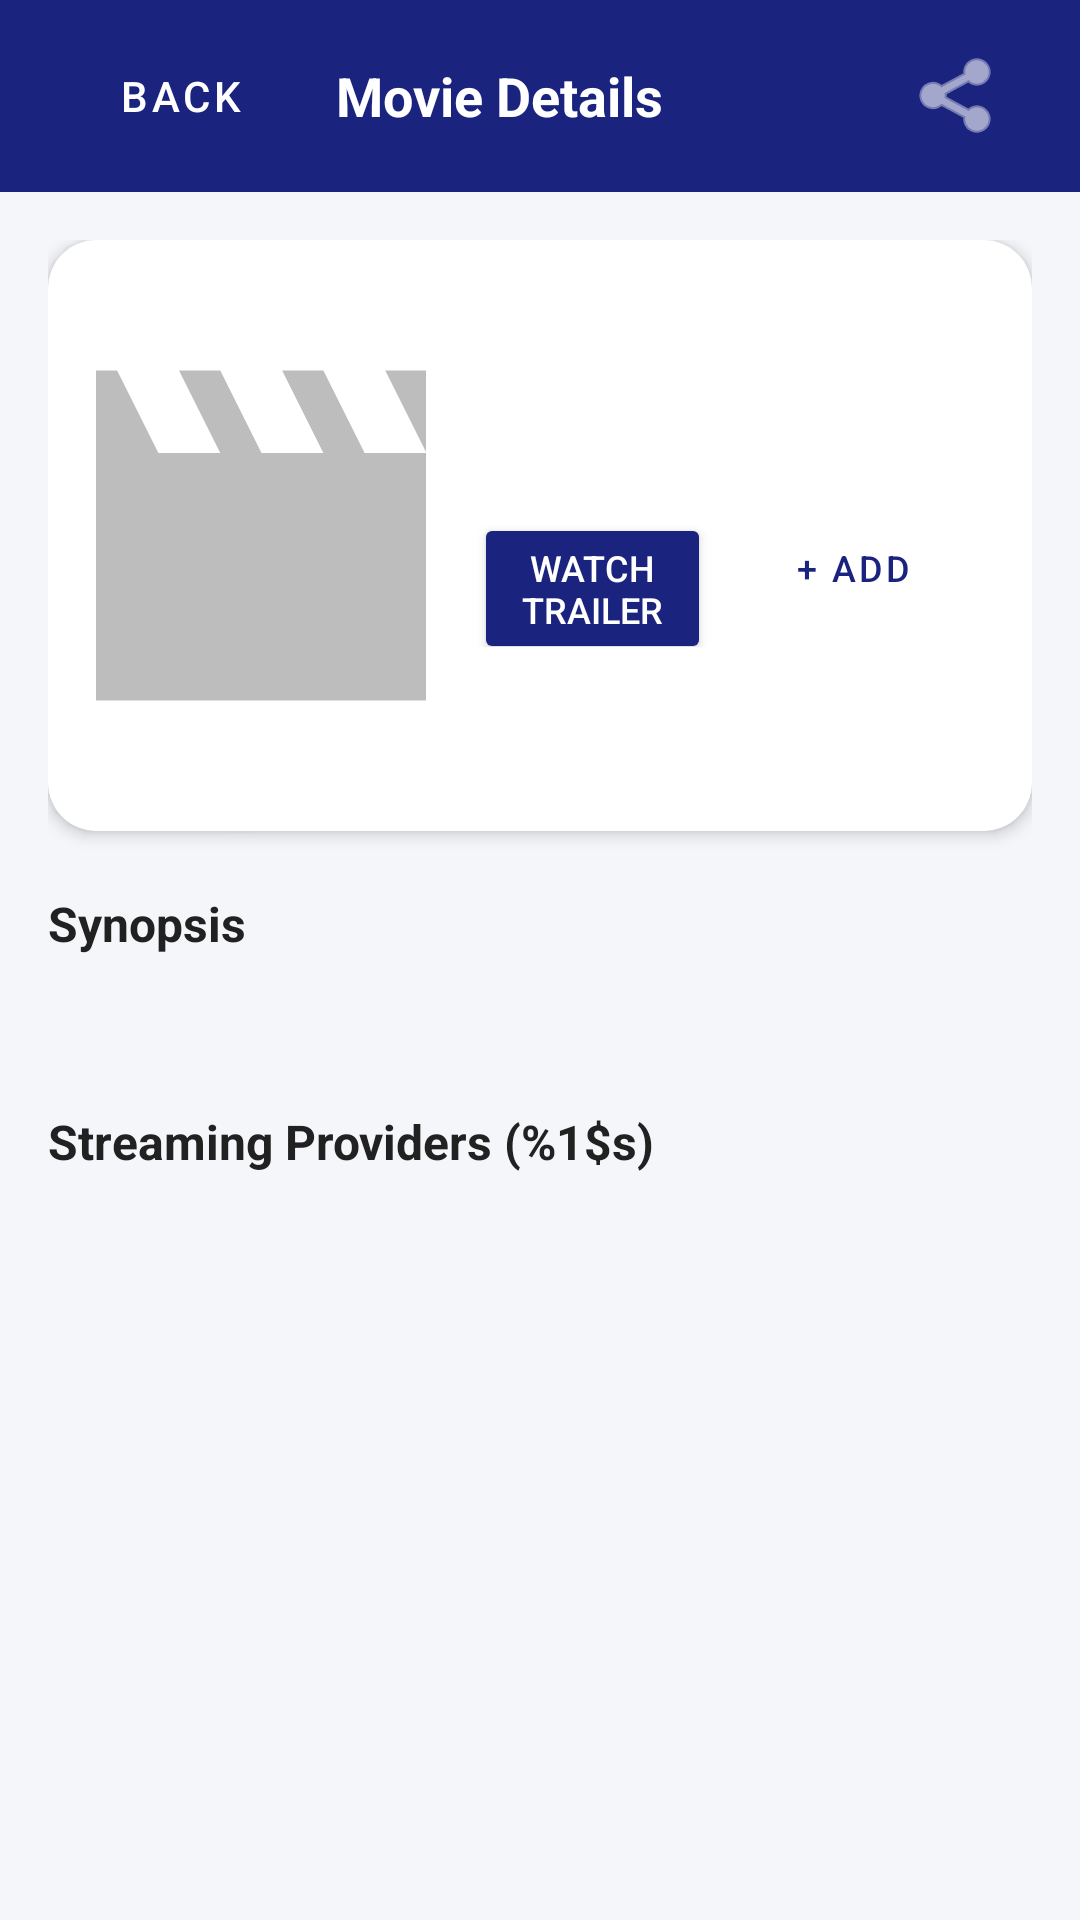

Named icons in this screenshot (1080 x 1920) and their centers, (x,y):
Share Movie: (955,95)
